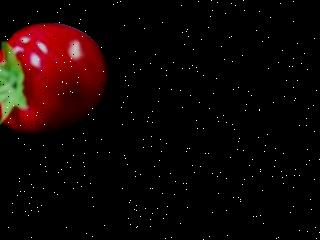Tomato: (0, 24, 110, 139)
